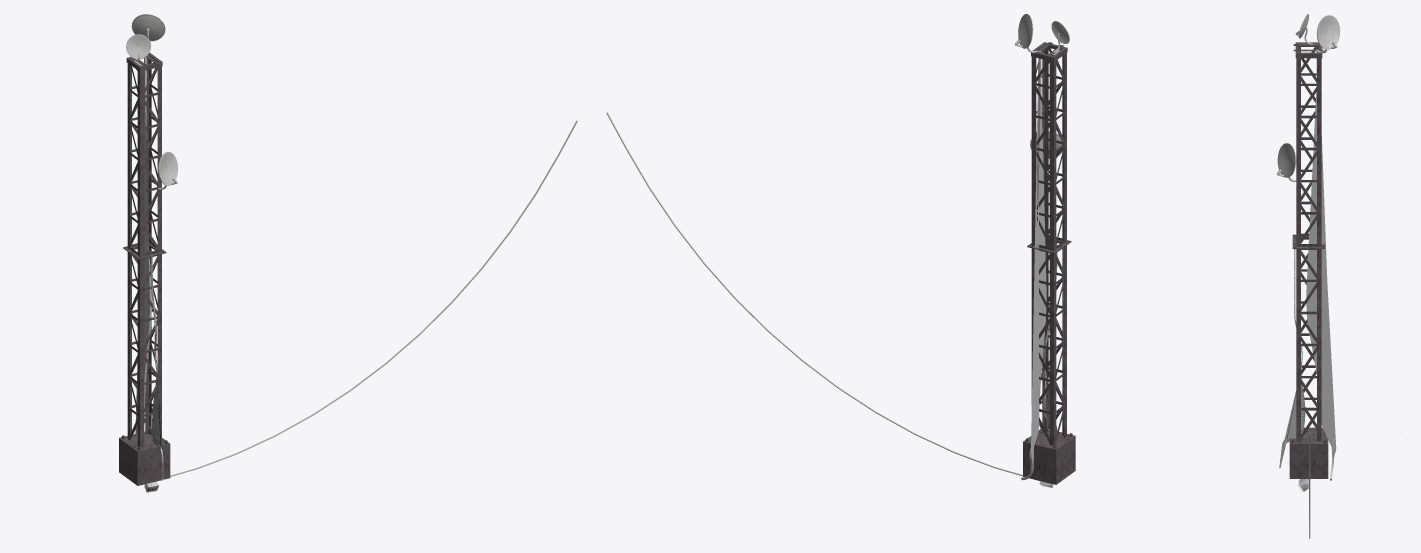
File: WireTower.fbx
The picture shows the model from 3 angles, left to right: view 1: azimuth 30°, elevation 25°; view 2: azimuth 150°, elevation 25°; view 3: azimuth 270°, elevation 25°; orthographic projection. The views are drawn at different scales.
Visible parts, largest first — view 1: Tower, Wire; view 2: Tower, Wire; view 3: Tower.
Boxes of the visible parts, <box> form: Tower: <box>119,14,179,485</box>; Wire: <box>170,120,577,476</box>; Tower: <box>1013,14,1075,484</box>; Wire: <box>606,112,1047,482</box>; Tower: <box>1211,14,1406,480</box>.
Bounding box in the file's own units: 12469 × 10823 × 4009.
